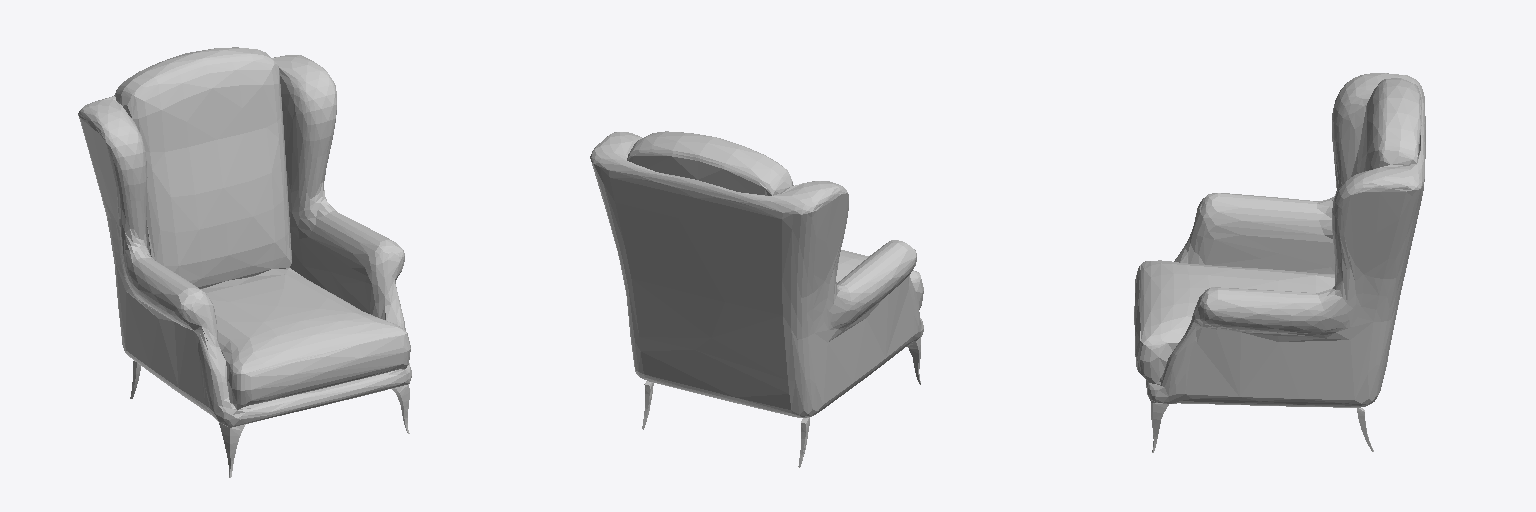
Rendered from chair1.obj.
3 views of the same model, side by side, from view 1: azimuth 30°, elevation 25°; view 2: azimuth 150°, elevation 25°; view 3: azimuth 270°, elevation 25° (orthographic).
Visible parts, largest first — view 1: Armchair1:Mesh; view 2: Armchair1:Mesh; view 3: Armchair1:Mesh.
Boxes of the visible parts, x1=… form: Armchair1:Mesh: x1=78, y1=47, x2=411, y2=477; Armchair1:Mesh: x1=590, y1=131, x2=923, y2=467; Armchair1:Mesh: x1=1134, y1=73, x2=1425, y2=452.
Size of the model in its own units: 0.3588 by 0.4715 by 0.3934.